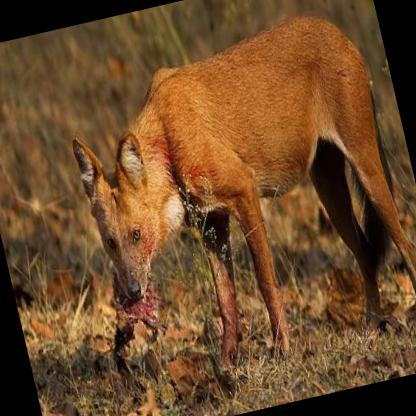dhole: (50, 0, 416, 416)
